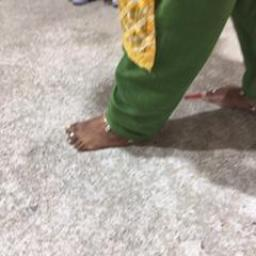Lateral View -Left Foot-: (59, 97, 162, 159)
